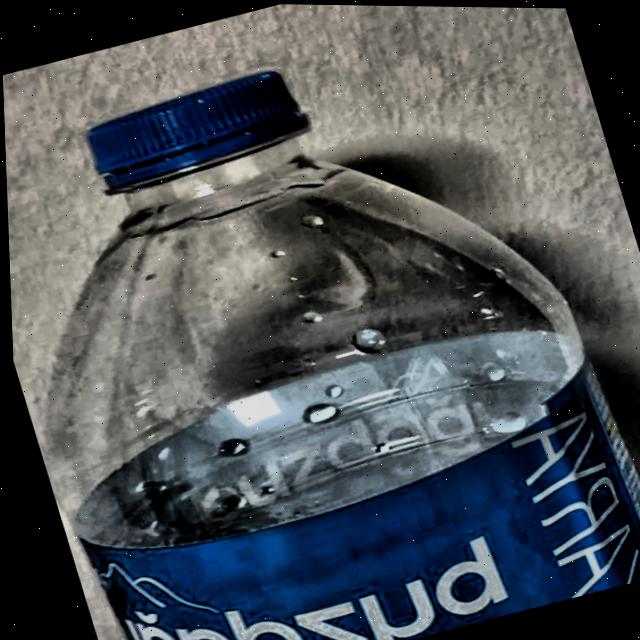plastic: (38, 63, 640, 640)
